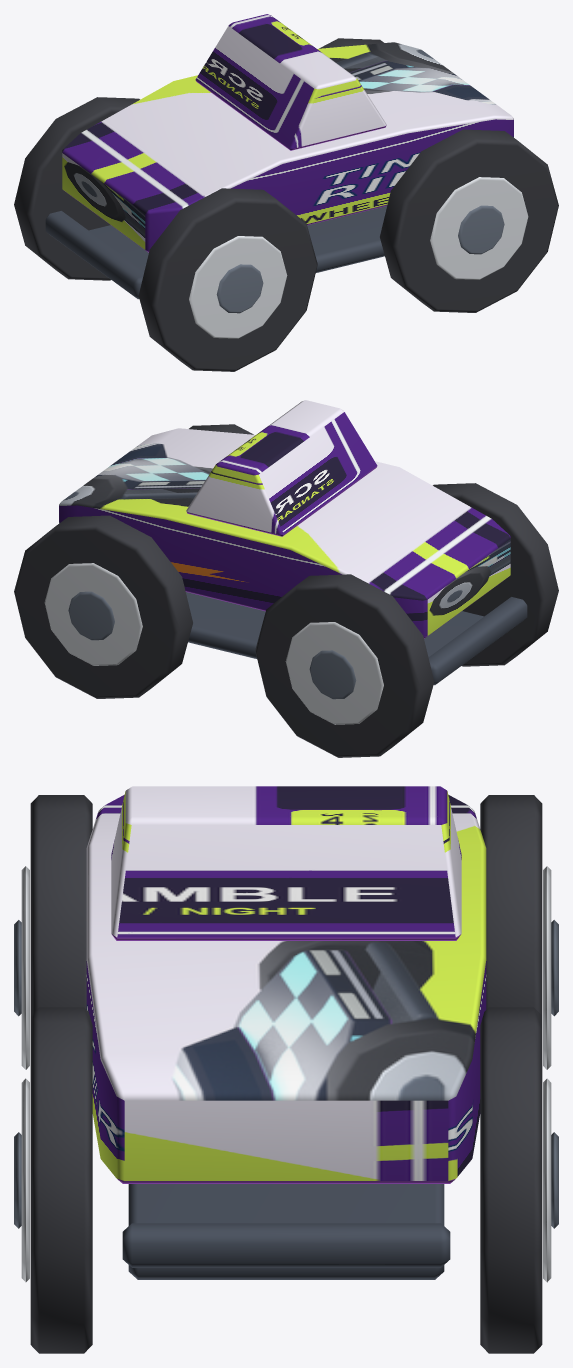
The picture shows the model from 3 angles, top to bottom: view 1: azimuth 30°, elevation 25°; view 2: azimuth 150°, elevation 25°; view 3: azimuth 270°, elevation 25°; orthographic projection. The views are drawn at different scales.
Parts seen in each view (by area): view 1: BW-05_connected_shell, Tire, Tire.002, BW-05_cabin, Tire.001, Rim.002, Rim, underbody, front bumper, Hub, Hub.002; view 2: BW-05_connected_shell, Tire.001, Tire.003, BW-05_cabin, Tire, Rim.003, Rim.001, underbody, front bumper, Hub.001, Hub.003; view 3: BW-05_connected_shell, BW-05_cabin, Tire.002, Tire.003, underbody, rear bumper, Tire, Tire.001, Rim, Rim.001, Rim.002, Rim.003 (+4 smaller).
Boxes of the visible parts, box(x1,y1,x2,y2) form: BW-05_connected_shell: box(62, 42, 513, 252); Tire: box(138, 188, 317, 371); Tire.002: box(380, 129, 558, 312); BW-05_cabin: box(195, 14, 386, 150); Tire.001: box(14, 97, 139, 280); Rim.002: box(430, 177, 528, 279); Rim: box(189, 236, 287, 338); underbody: box(89, 206, 386, 272); front bumper: box(45, 211, 144, 299); Hub: box(216, 264, 263, 313); Hub.002: box(458, 205, 504, 254); BW-05_connected_shell: box(59, 428, 510, 638); Tire.001: box(255, 574, 434, 757); Tire.003: box(14, 515, 192, 698); BW-05_cabin: box(186, 400, 377, 536); Tire: box(433, 483, 558, 666); Rim.003: box(44, 563, 142, 665); Rim.001: box(285, 622, 383, 724); underbody: box(186, 592, 483, 658); front bumper: box(428, 597, 527, 685); Hub.001: box(309, 650, 356, 699); Hub.003: box(68, 591, 114, 640); BW-05_connected_shell: box(86, 795, 486, 1183); BW-05_cabin: box(111, 786, 461, 940); Tire.002: box(30, 1007, 92, 1353); Tire.003: box(480, 1007, 542, 1353); underbody: box(128, 1184, 444, 1279); rear bumper: box(122, 1223, 450, 1267); Tire: box(30, 795, 92, 1015); Tire.001: box(480, 795, 542, 1015); Rim: box(21, 866, 29, 1069); Rim.001: box(543, 866, 551, 1069); Rim.002: box(21, 1078, 29, 1282); Rim.003: box(543, 1078, 551, 1282).
Bounding box in the file's own units: 357 × 202 × 229.
